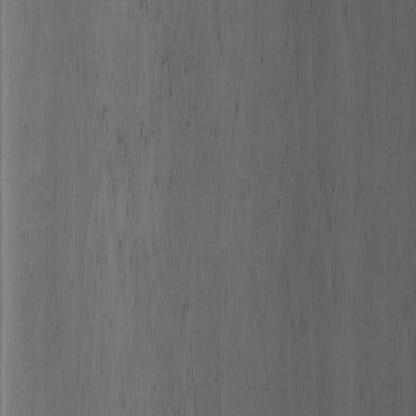silk_spot: (102, 39, 251, 397)
